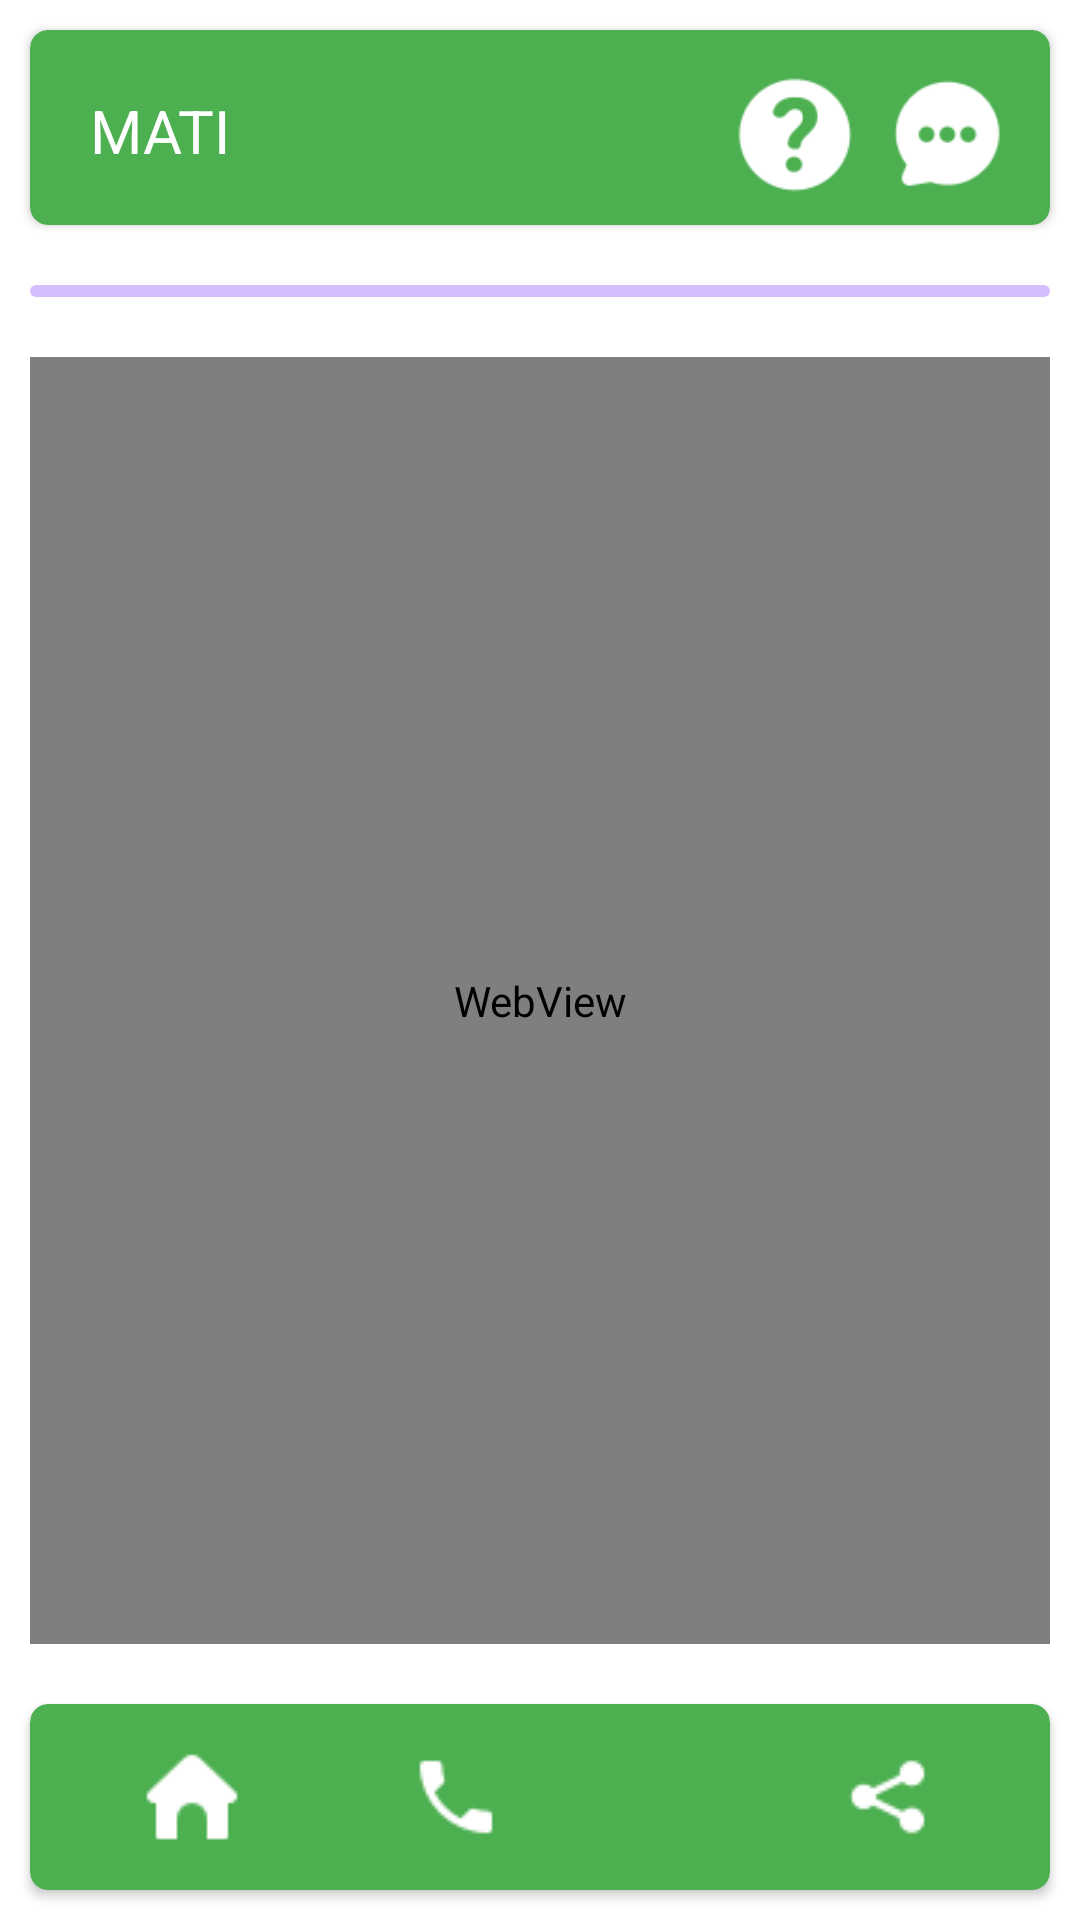

Where icons sit on this 1080*1920 app screen, as box(x1, y1, x2, y2):
calls: box(419, 1760, 493, 1834)
homes: box(146, 1754, 238, 1840)
mchat: box(895, 81, 1000, 186)
shares: box(850, 1760, 925, 1834)
